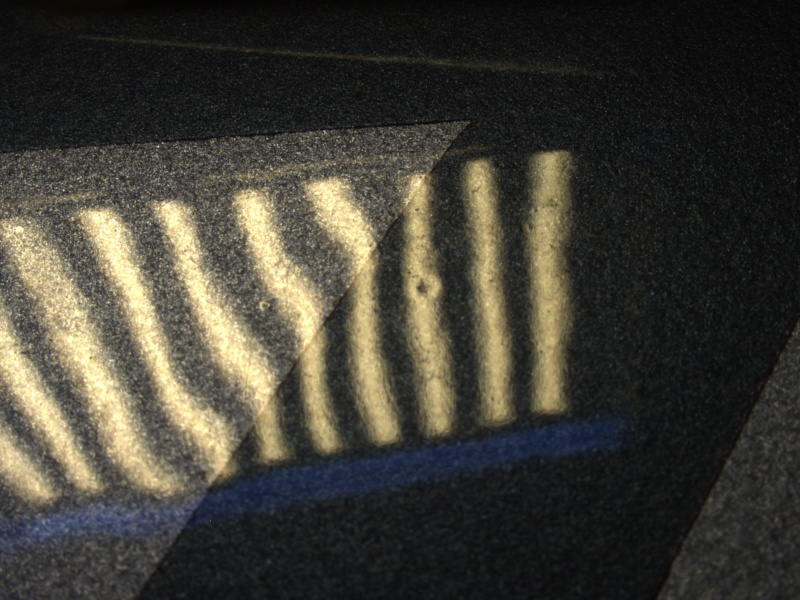bad: (402, 265, 448, 311)
